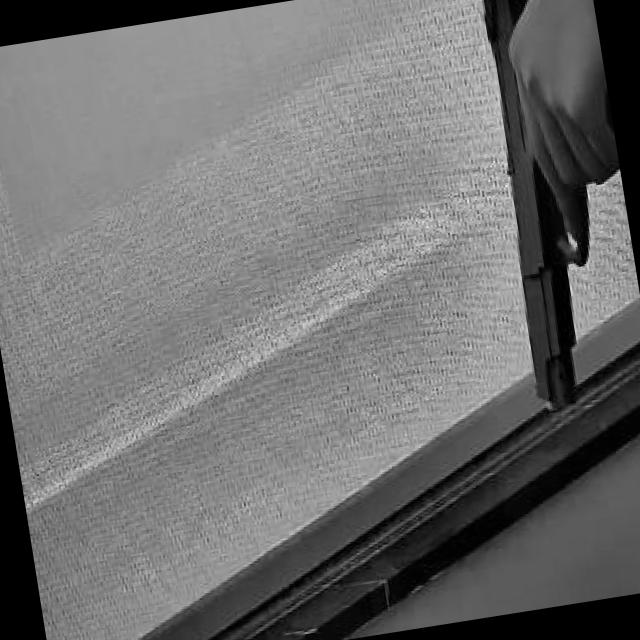Guns: (455, 0, 640, 447)
